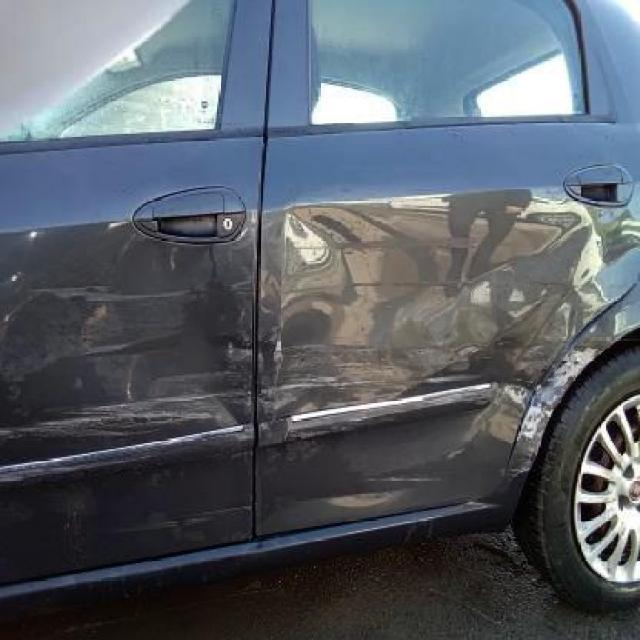car damage: (264, 182, 616, 518), (0, 219, 277, 451), (571, 205, 640, 303), (66, 473, 100, 518), (178, 528, 220, 546), (149, 459, 176, 482), (258, 301, 260, 320)
